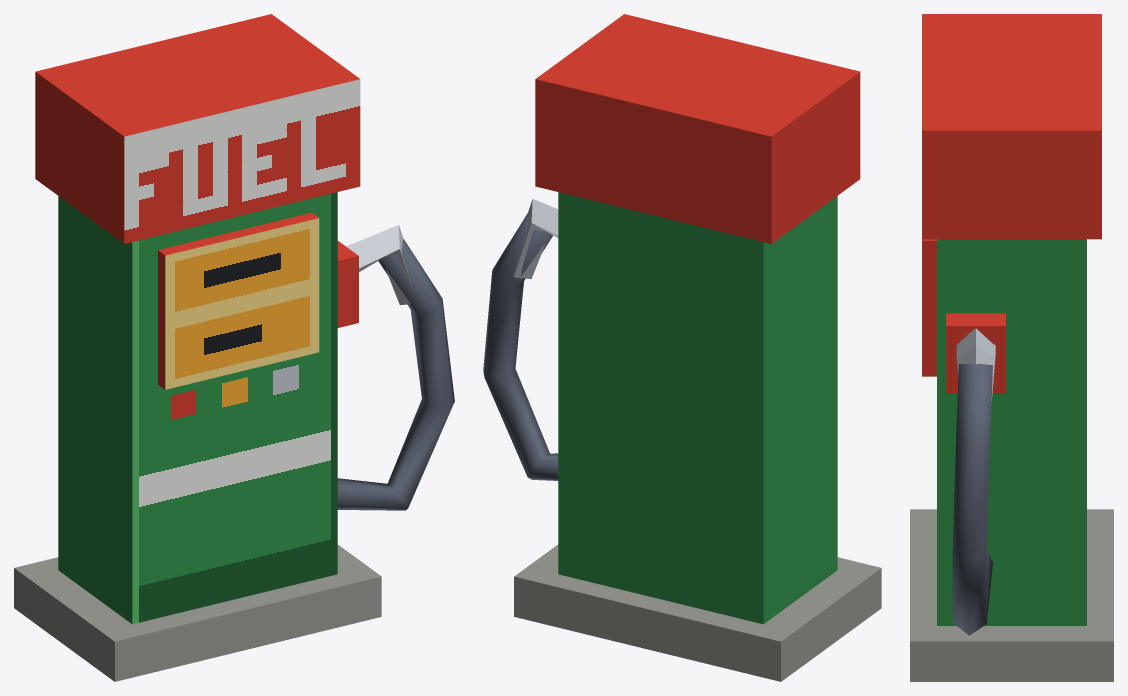
File: around-fuelPump.glb
The picture shows the model from 3 angles, left to right: view 1: azimuth 30°, elevation 25°; view 2: azimuth 150°, elevation 25°; view 3: azimuth 270°, elevation 25°; orthographic projection.
Visible parts, largest first — view 1: around.fuelPump; view 2: around.fuelPump; view 3: around.fuelPump.
Part boxes in pixels (x1,y1,x2,y2): around.fuelPump: (14,14,454,681); around.fuelPump: (483,14,881,681); around.fuelPump: (910,14,1113,681).
Bounding box in the file's own units: 1.13 × 1.56 × 0.5321.
9 materials, 3 textured.
